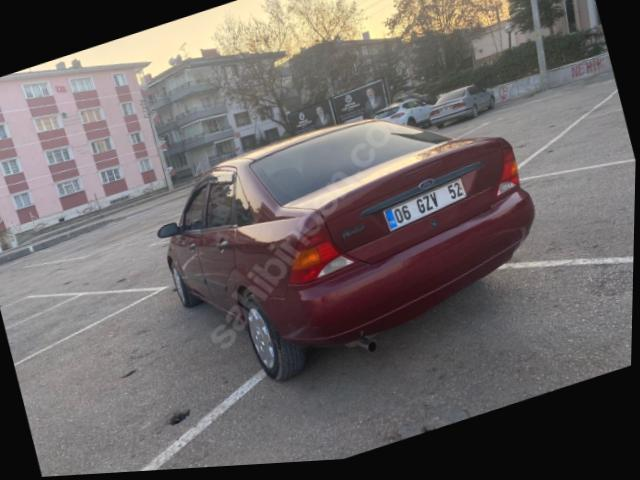plaka: (384, 178, 466, 230)
